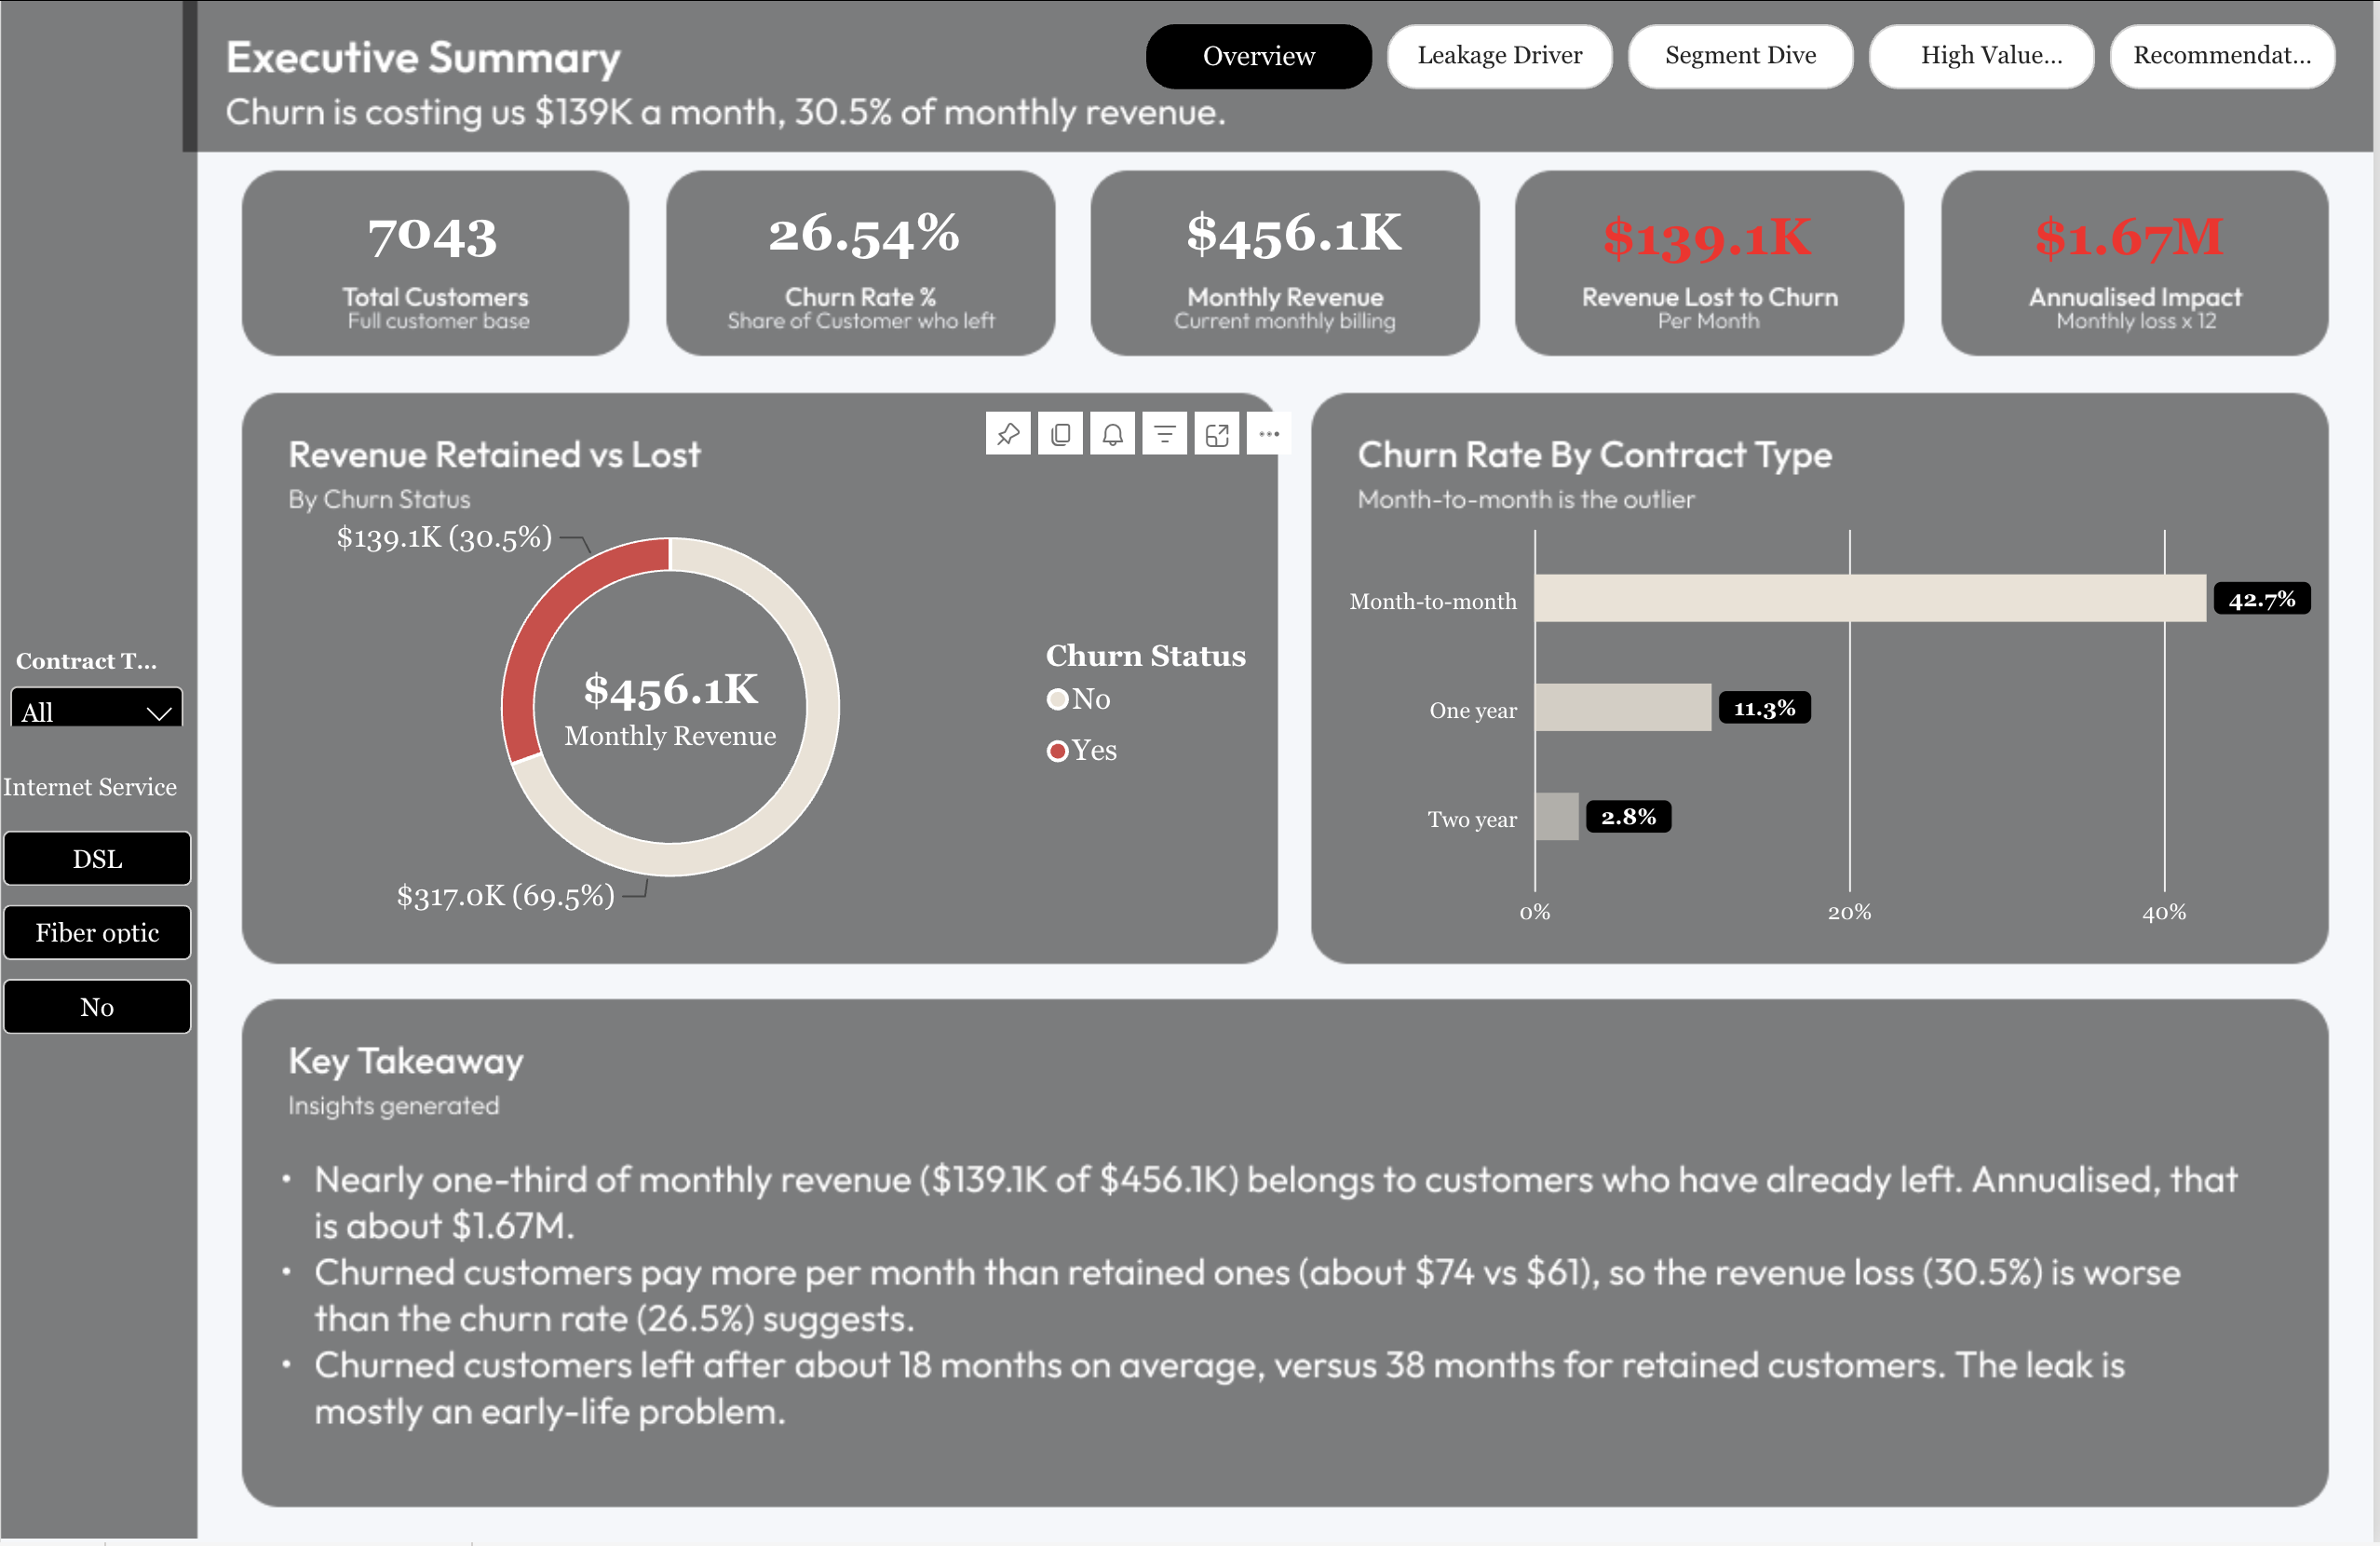

What the dashboard file says about the page in this screenshot:
{"tool":"powerbi","page":{"name":"Overview","canvas":[1280,832],"ordinal":0},"visuals":[{"type":"cardVisual","fields":{"Data":["Clean IBM Teleco data 2.Total Customers"]},"box":[150.7,79.9,165.1,87.8],"z":0},{"type":"cardVisual","fields":{"Data":["Clean IBM Teleco data 2.Churn Rate %"]},"box":[386.5,68.1,158.5,114],"z":1000},{"type":"cardVisual","fields":{"Data":["Clean IBM Teleco data 2.Total MRR"]},"box":[606.6,68.1,182,113.9],"z":2000},{"type":"cardVisual","fields":{"Data":["Clean IBM Teleco data 2.Monthly Revenue Lost"]},"box":[816.2,87.8,209.6,79.9],"z":3000},{"type":"cardVisual","fields":{"Data":["Clean IBM Teleco data 2.Annualised Revenue Lost"]},"box":[1069.1,87.8,159.8,79.9],"z":4000},{"type":"donutChart","fields":{"Category":["Clean IBM Teleco data 2.Churn"],"Y":["Clean IBM Teleco data 2.Total MRR"]},"box":[142.8,246.3,554.2,272.5],"z":5000},{"type":"clusteredBarChart","fields":{"Category":["Clean IBM Teleco data 2.Contract"],"Y":["Clean IBM Teleco data 2.Churn Rate %"]},"box":[697.1,264.6,582.7,254.4],"z":6000},{"type":"slicer","fields":{"Values":["Clean IBM Teleco data 2.Contract"]},"box":[0,349.8,103.5,41.9],"z":7000},{"type":"advancedSlicerVisual","title":"Internet Service","fields":{"Values":["Clean IBM Teleco data 2.InternetService"]},"box":[1.3,416.6,102.2,141.5],"z":8000},{"type":"pageNavigator","box":[618.3,13.6,642.7,35.3],"z":9000}]}

Visuals, with their boxes in screenshot pixels (x1, y1, x2, y2), scaled from the page's 1280x832 canvas onto the 2380x1546 screenshot:
cardVisual - Clean IBM Teleco data 2.Total Customers: bbox=(280, 148, 588, 312)
cardVisual - Clean IBM Teleco data 2.Churn Rate %: bbox=(719, 127, 1013, 338)
cardVisual - Clean IBM Teleco data 2.Total MRR: bbox=(1128, 127, 1467, 338)
cardVisual - Clean IBM Teleco data 2.Monthly Revenue Lost: bbox=(1518, 163, 1907, 312)
cardVisual - Clean IBM Teleco data 2.Annualised Revenue Lost: bbox=(1988, 163, 2285, 312)
donutChart - Clean IBM Teleco data 2.Churn x Clean IBM Teleco data 2.Total MRR: bbox=(265, 457, 1296, 964)
clusteredBarChart - Clean IBM Teleco data 2.Contract x Clean IBM Teleco data 2.Churn Rate %: bbox=(1296, 492, 2379, 965)
slicer - Clean IBM Teleco data 2.Contract: bbox=(0, 650, 193, 728)
"Internet Service" advancedSlicerVisual: bbox=(3, 774, 193, 1037)
pageNavigator: bbox=(1150, 25, 2345, 91)
